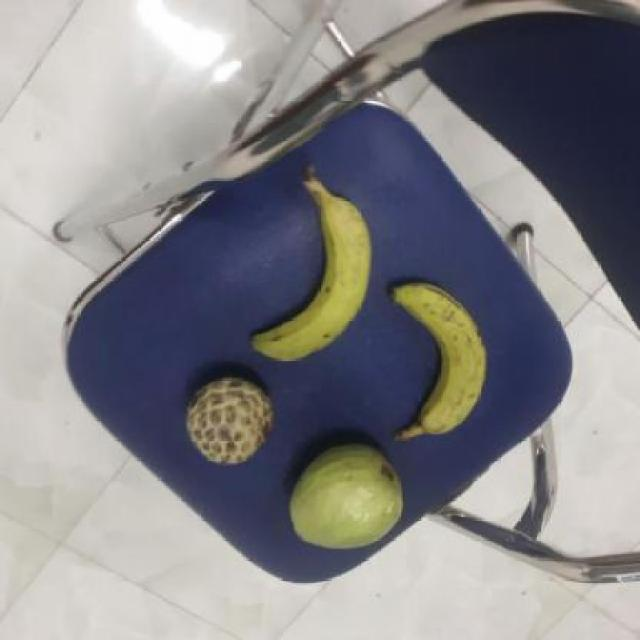banana: (248, 198, 372, 364), (384, 286, 488, 442)
guava: (283, 442, 405, 548)
sugar apple: (177, 375, 271, 467)
